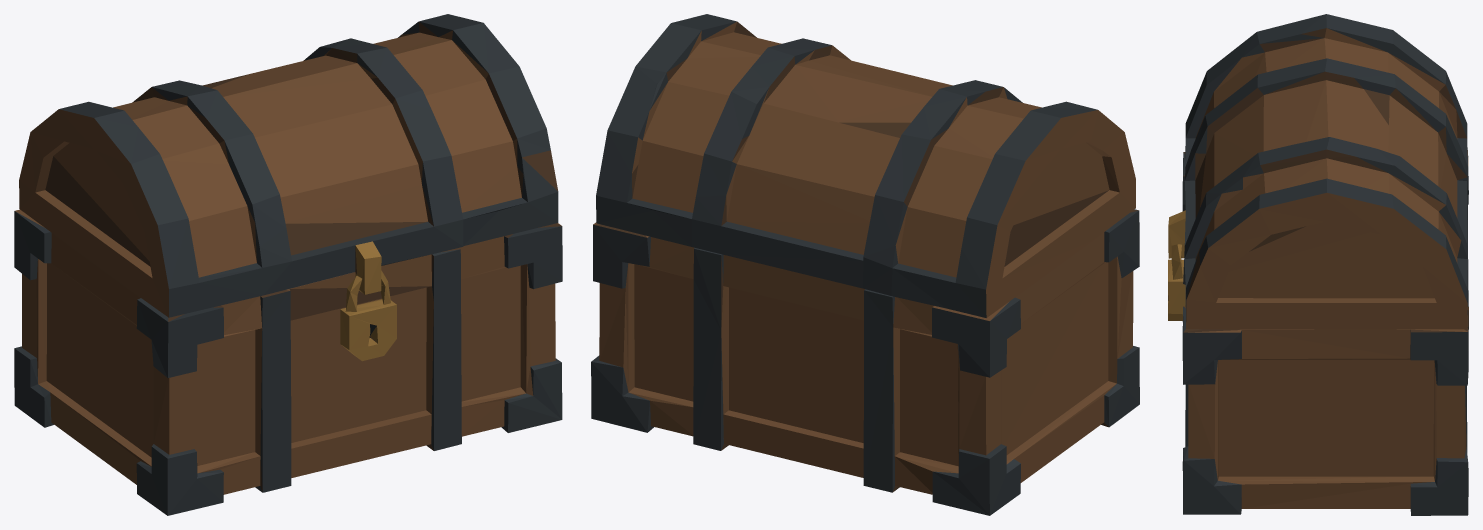
File: mdvl_dungeon_chest_01.glb
3 renders of one model, left to right at view 1: azimuth 30°, elevation 25°; view 2: azimuth 150°, elevation 25°; view 3: azimuth 270°, elevation 25°, orthographic. The views are drawn at different scales.
Visible parts, largest first — view 1: mdvl_dungeon_chest_01; view 2: mdvl_dungeon_chest_01; view 3: mdvl_dungeon_chest_01.
Part boxes in pixels (x1,y1,x2,y2): mdvl_dungeon_chest_01: (14, 14, 562, 515); mdvl_dungeon_chest_01: (591, 14, 1139, 515); mdvl_dungeon_chest_01: (1168, 14, 1468, 515).
Bounding box in the file's own units: 0.7996 × 0.6561 × 0.5553.
Materials: 1 (1 with a texture image).
